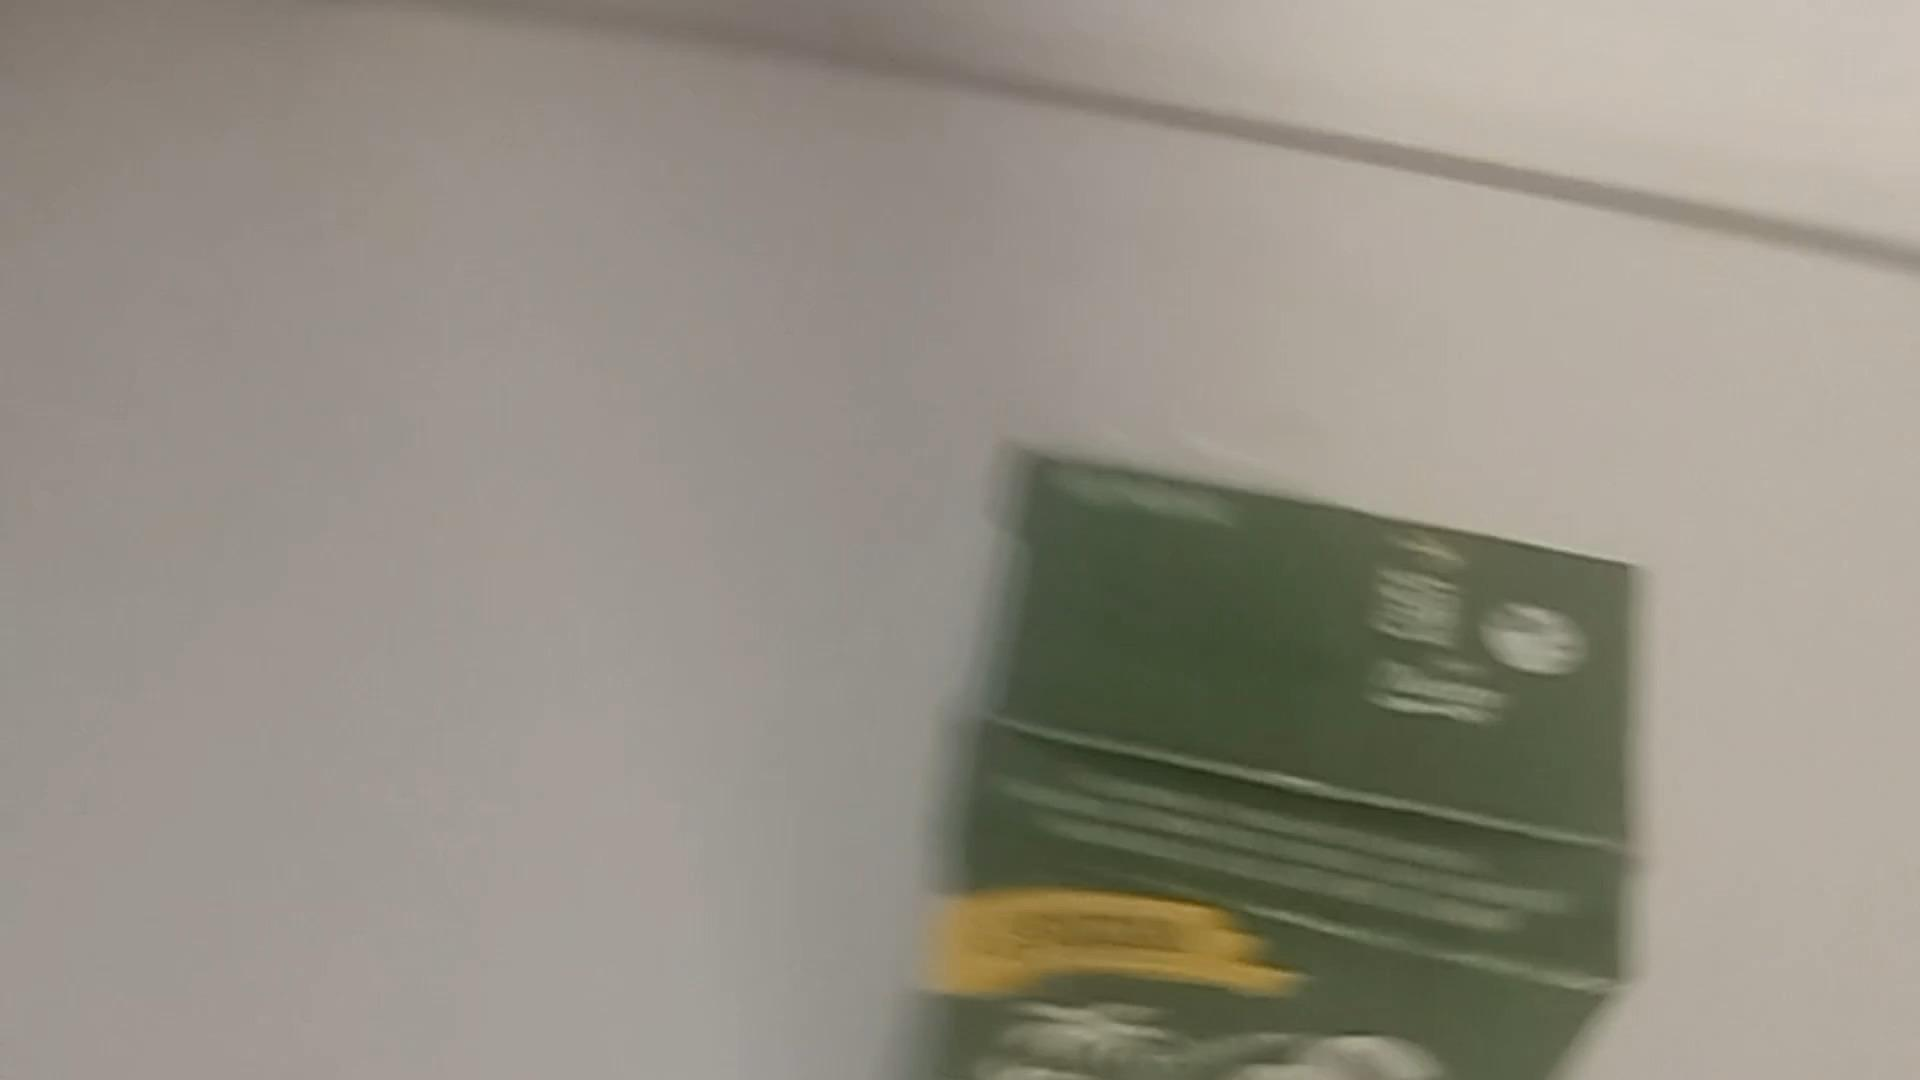coco: (851, 419, 1650, 1080)
